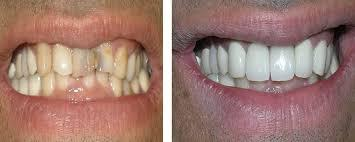Calculus: (111, 45, 130, 83), (33, 43, 53, 73)
Discoloration: (71, 46, 97, 76)
